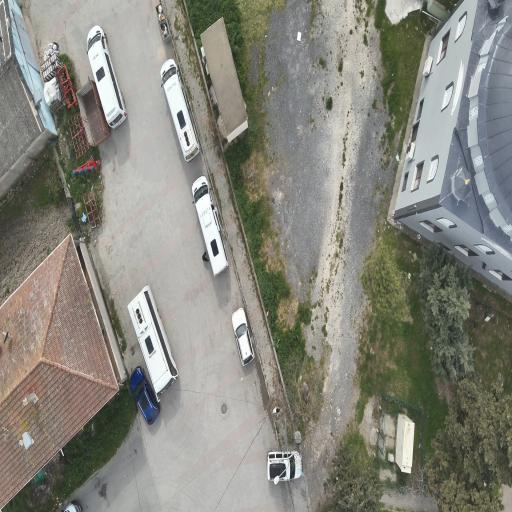car: (127, 286, 178, 401), (87, 25, 127, 128), (161, 60, 200, 161), (192, 176, 228, 275), (130, 366, 159, 424), (232, 309, 254, 365), (268, 451, 302, 483), (62, 501, 82, 511)
person: (202, 251, 209, 262)
